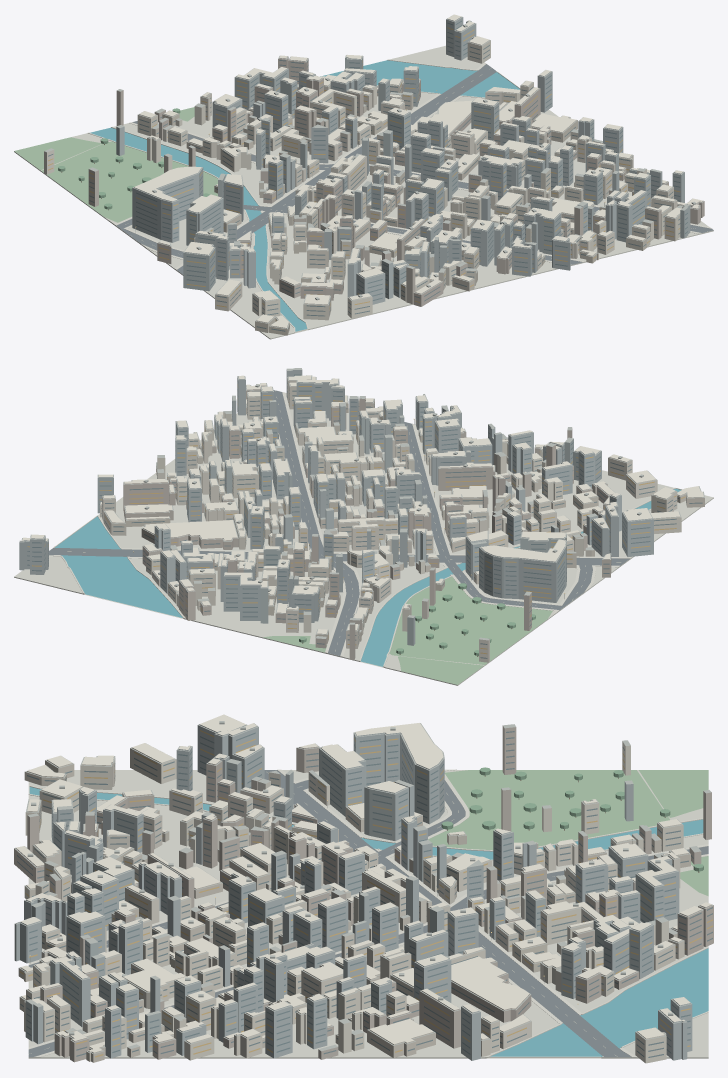
The picture shows the model from 3 angles, top to bottom: view 1: azimuth 30°, elevation 25°; view 2: azimuth 150°, elevation 25°; view 3: azimuth 270°, elevation 25°; orthographic projection. The views are drawn at different scales.
Visible parts, largest first — view 1: city; view 2: city; view 3: city.
Boxes of the visible parts, x1,y1,x2,y2 form: city: (14,14,713,339); city: (14,368,713,685); city: (14,714,713,1063).
Size of the model in its own units: 526 by 46.35 by 515.
